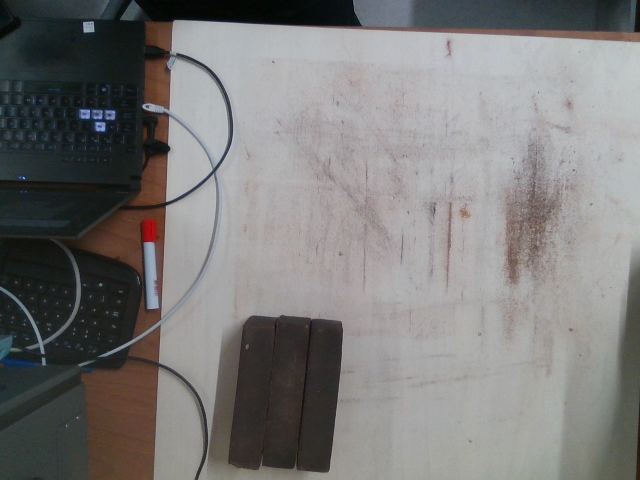brick-side: (298, 327, 344, 469), (264, 324, 310, 466), (228, 325, 274, 467)
